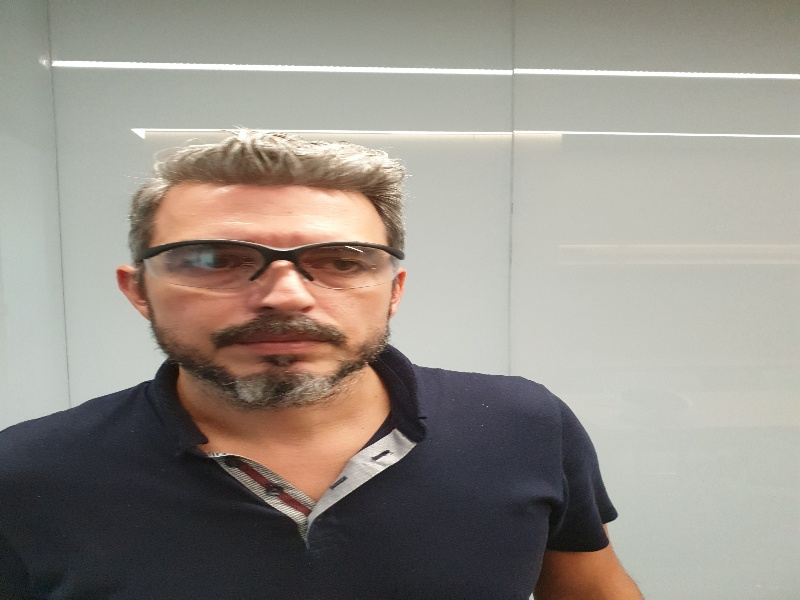Gozluk: (122, 237, 401, 294)
